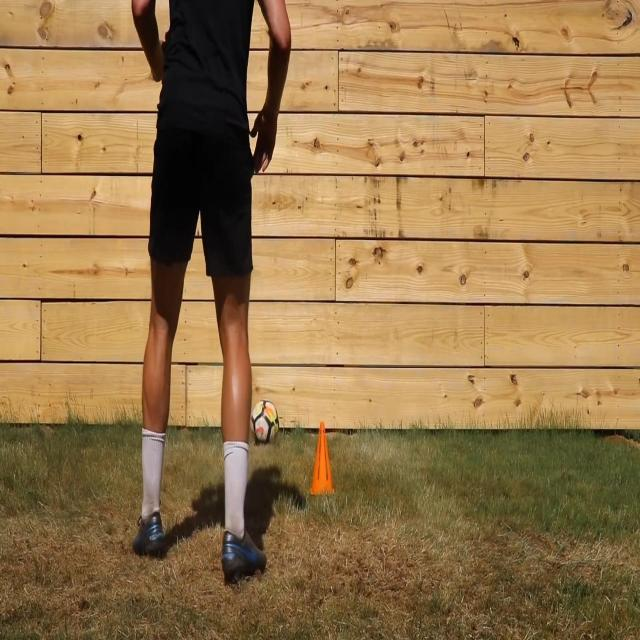Soccer Ball: (249, 397, 280, 450)
